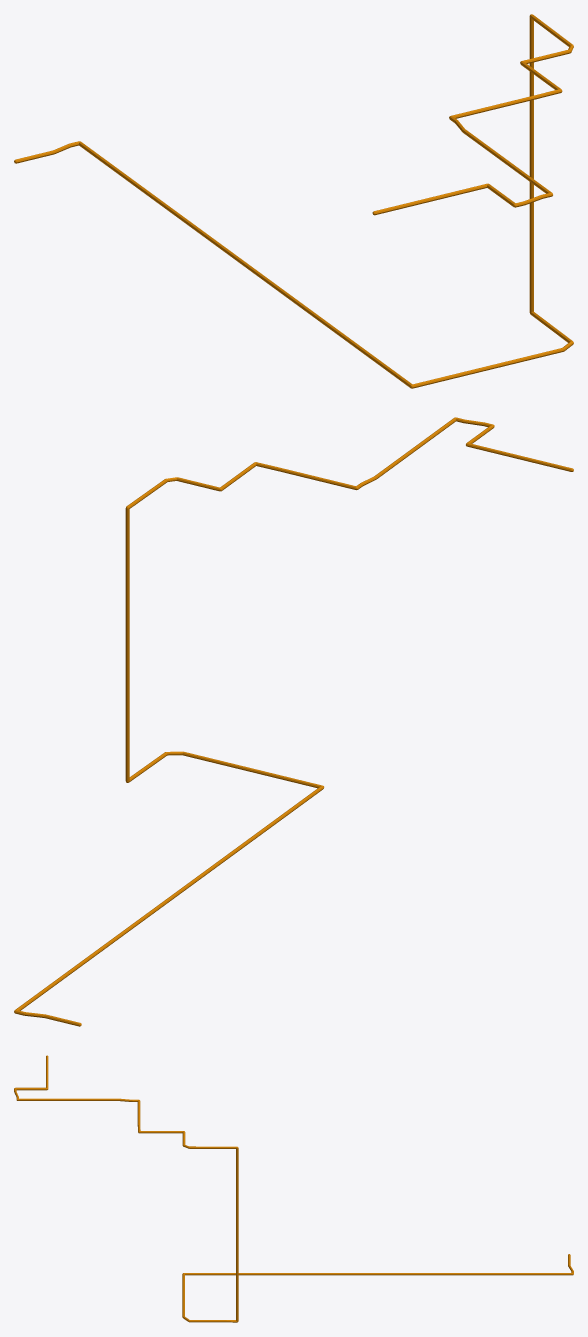
The picture shows the model from 3 angles, top to bottom: view 1: azimuth 30°, elevation 25°; view 2: azimuth 150°, elevation 25°; view 3: azimuth 270°, elevation 25°; orthographic projection. The views are drawn at different scales.
Size of the model in its own units: 1713 by 1520 by 4390.
